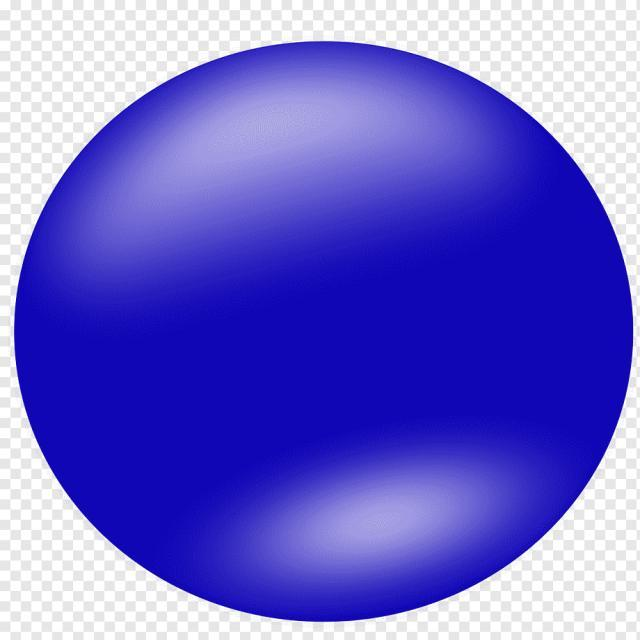Circle: (16, 41, 634, 624)
